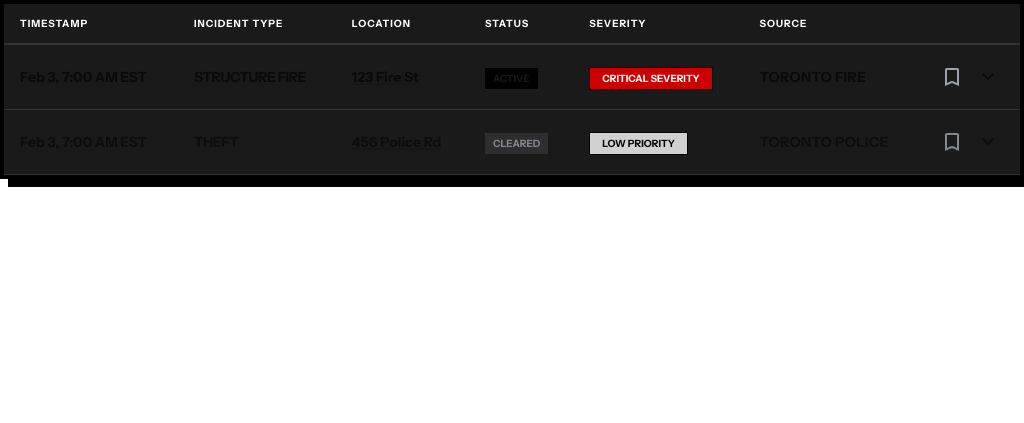
AlertTableView › expands summary on row click without selecting details
Step 1. Click the text "STRUCTURE FIRE" → (257, 77), box [178, 44, 336, 110]
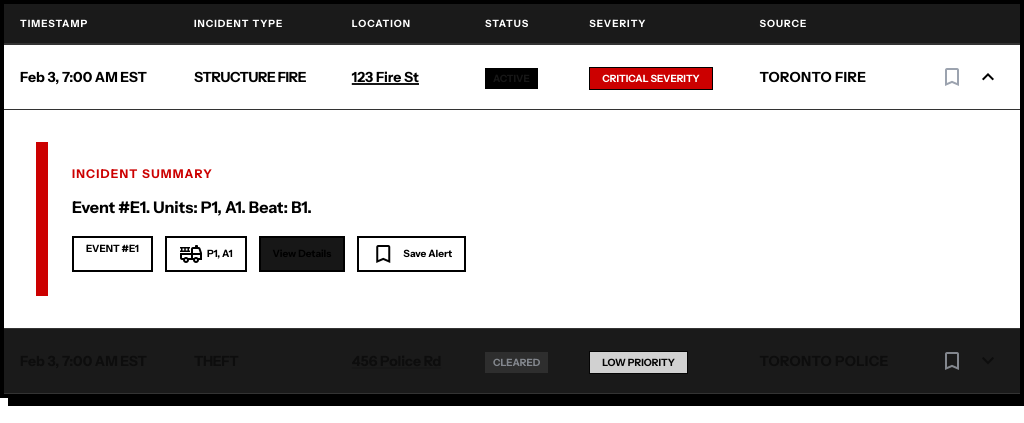
Check: the text "Incident Summary" is shown, box [72, 166, 213, 181]
